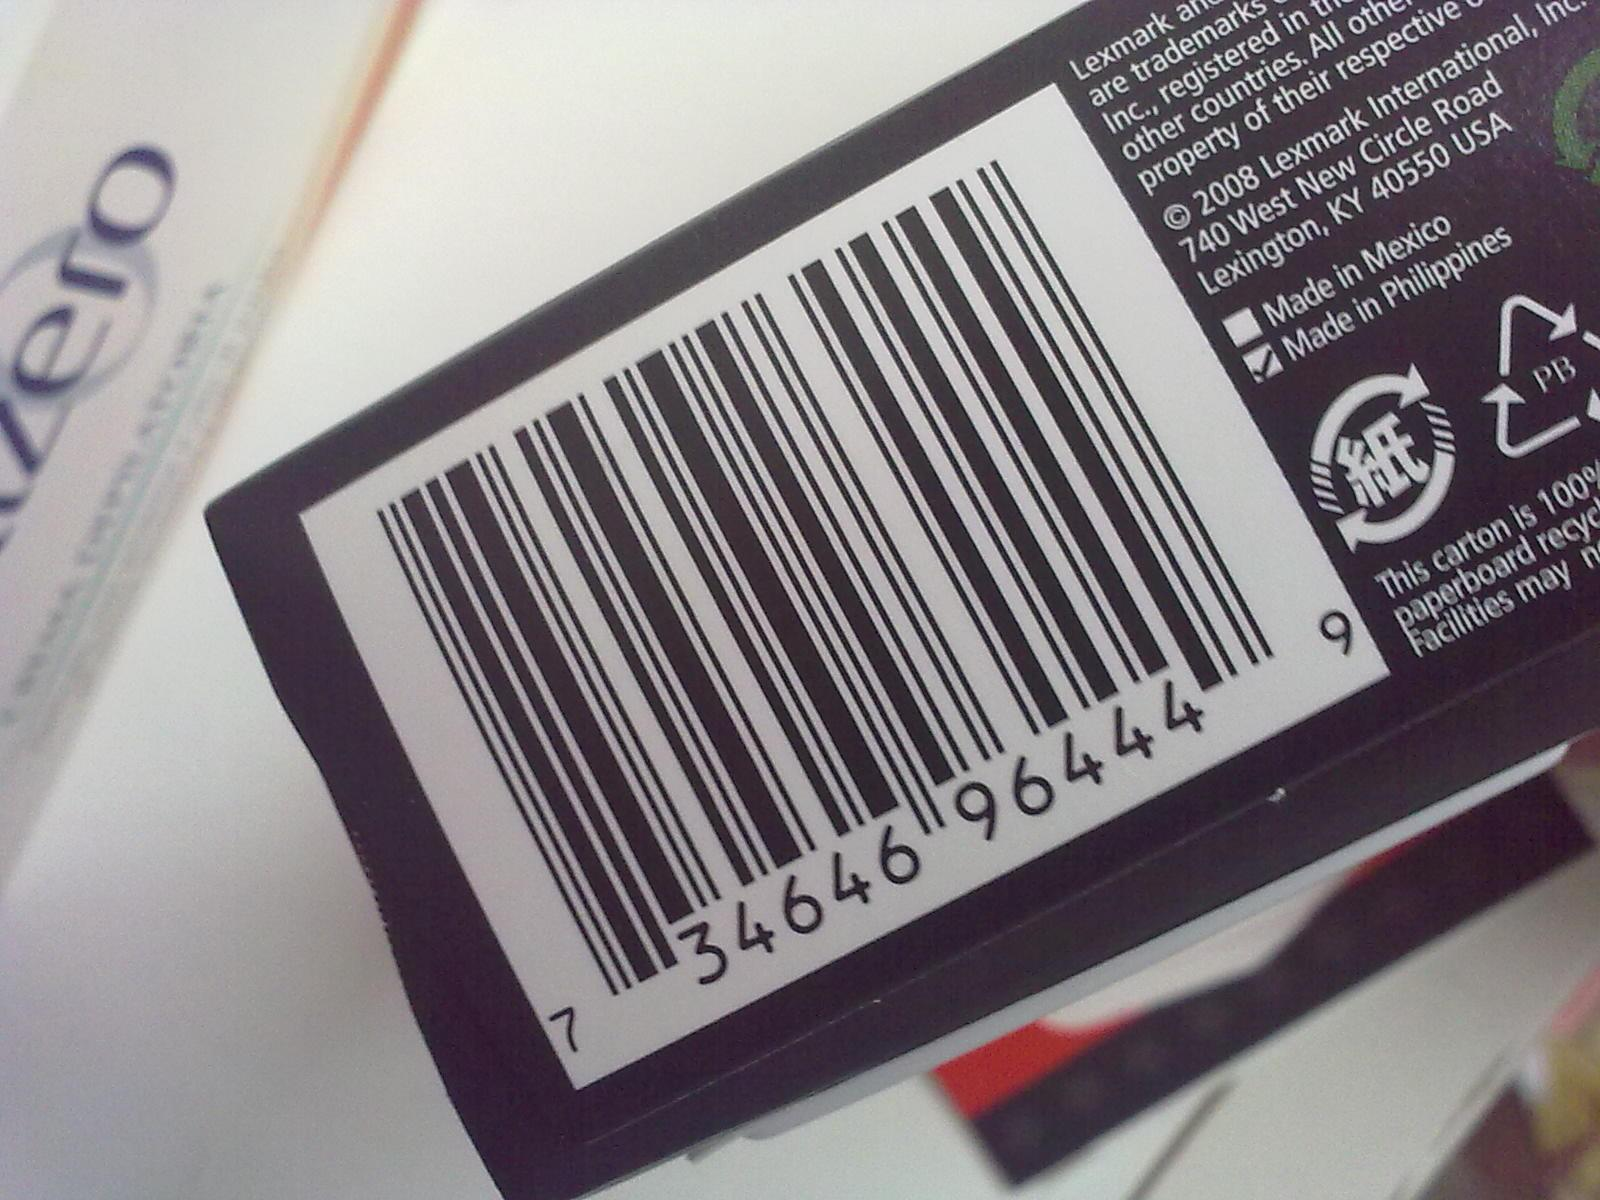barcode: (300, 81, 1391, 1092)
